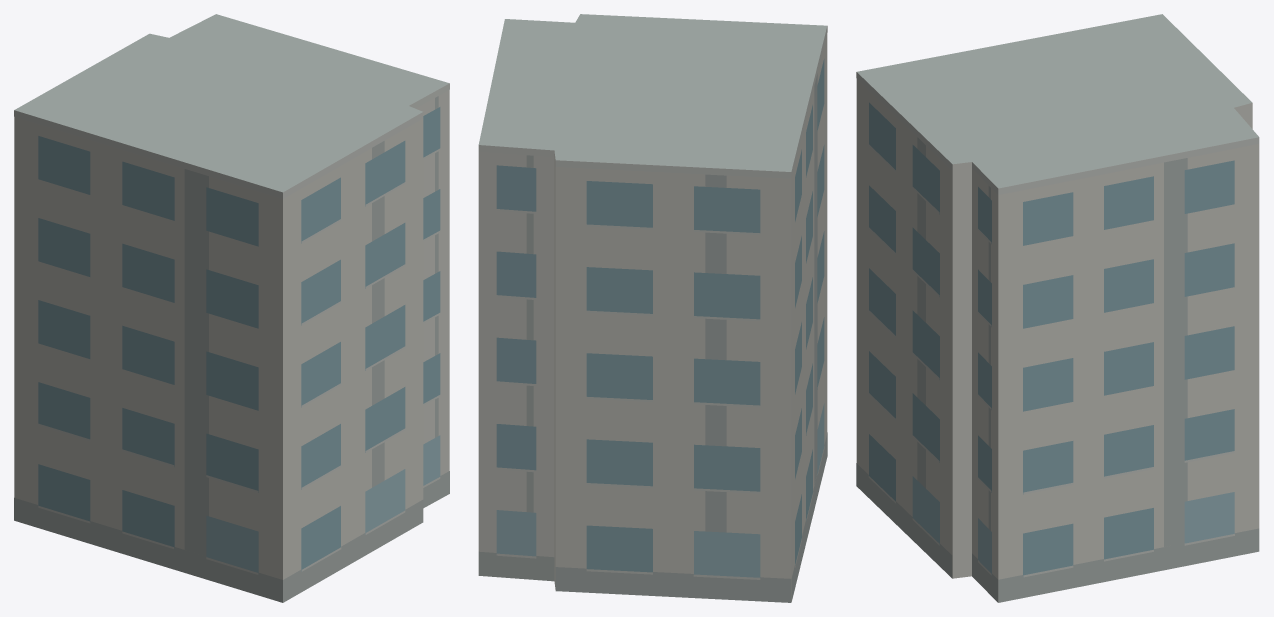
File: survey-upis-32894826.glb
3 renders of one model, left to right at view 1: azimuth 30°, elevation 25°; view 2: azimuth 150°, elevation 25°; view 3: azimuth 270°, elevation 25°, orthographic. The views are drawn at different scales.
Visible parts, largest first — view 1: survey-upis-32894826.tmp; view 2: survey-upis-32894826.tmp; view 3: survey-upis-32894826.tmp.
Boxes of the visible parts, x1,y1,x2,y2 form: survey-upis-32894826.tmp: (14, 14, 449, 602); survey-upis-32894826.tmp: (478, 14, 827, 602); survey-upis-32894826.tmp: (856, 14, 1259, 602).
Size of the model in its own units: 13.97 by 15.45 by 13.62.
